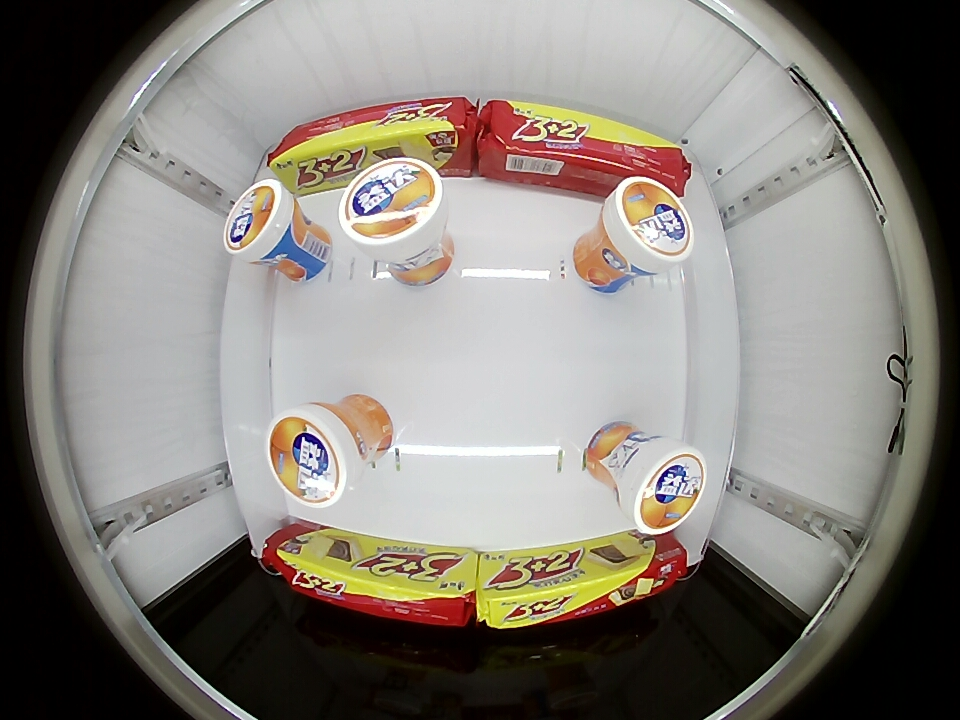3jia2: (480, 100, 686, 188), (266, 542, 478, 627), (480, 551, 687, 631), (272, 97, 473, 175)
yida: (267, 402, 370, 510), (339, 157, 447, 254), (614, 435, 707, 535), (599, 176, 694, 273), (223, 179, 299, 263)
